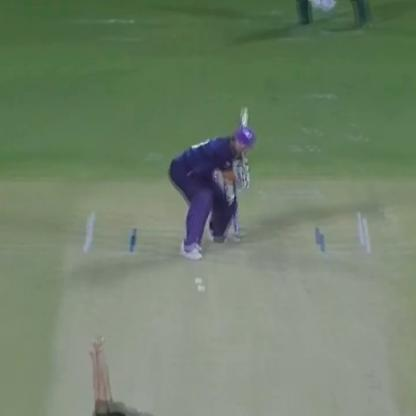ball: (195, 284, 207, 294), (192, 275, 204, 282)
pitch: (45, 206, 415, 416)
